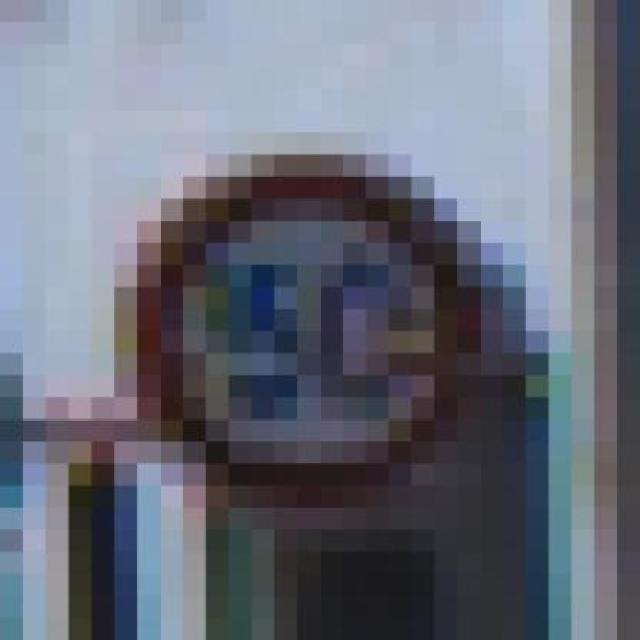forb_speed_over_50: (143, 170, 466, 481)
